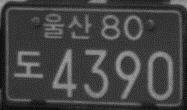0: (146, 51, 173, 100), (124, 14, 143, 40)
3: (83, 48, 109, 99)
4: (51, 48, 77, 97)
8: (101, 14, 121, 39)
9: (114, 49, 141, 99)
도: (12, 50, 43, 78)
울산_O: (42, 12, 92, 39)
